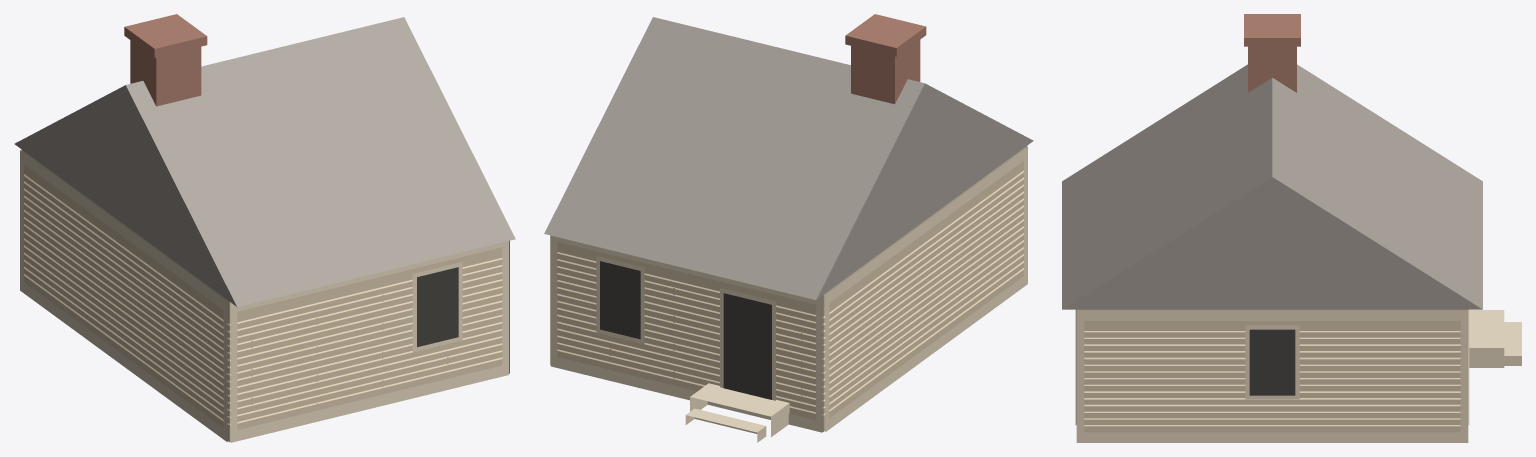
The model's file is recon_1835_blk_randolph_dearborn_d3_15__inferred_1835.glb.
3 views of the same model, side by side, from view 1: azimuth 30°, elevation 25°; view 2: azimuth 150°, elevation 25°; view 3: azimuth 270°, elevation 25° (orthographic). The views are drawn at different scales.
Visible parts, largest first — view 1: recon_1835_blk_randolph_dearborn_d3_15__inferred_1835; view 2: recon_1835_blk_randolph_dearborn_d3_15__inferred_1835; view 3: recon_1835_blk_randolph_dearborn_d3_15__inferred_1835.
Part boxes in pixels (bbox=[...]): recon_1835_blk_randolph_dearborn_d3_15__inferred_1835: bbox=[14, 14, 515, 442]; recon_1835_blk_randolph_dearborn_d3_15__inferred_1835: bbox=[544, 14, 1033, 442]; recon_1835_blk_randolph_dearborn_d3_15__inferred_1835: bbox=[1062, 14, 1521, 442].
Size of the model in its own units: 5.28 by 5.8 by 7.89.
